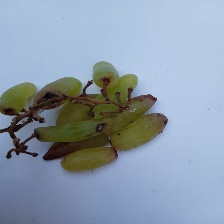grapes: (43, 53, 186, 195)
